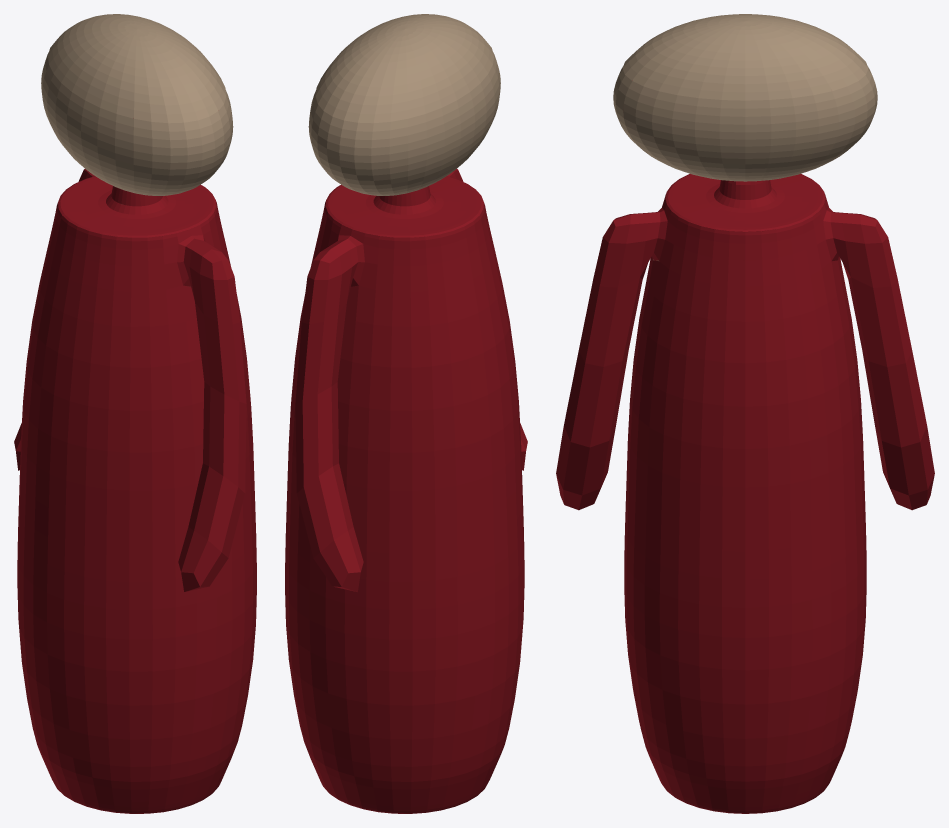
Rendered from seeker_standing_body.glb.
The picture shows the model from 3 angles, left to right: view 1: azimuth 30°, elevation 25°; view 2: azimuth 150°, elevation 25°; view 3: azimuth 270°, elevation 25°; orthographic projection.
Visible parts, largest first — view 1: seeker_standing; view 2: seeker_standing; view 3: seeker_standing.
Boxes of the visible parts, x1=… form: seeker_standing: x1=14, y1=14, x2=256, y2=813; seeker_standing: x1=285, y1=14, x2=527, y2=813; seeker_standing: x1=556, y1=14, x2=934, y2=813.
Bounding box in the file's own units: 0.7153 × 2.47 × 1.12.
Materials: 1 (1 with a texture image).
